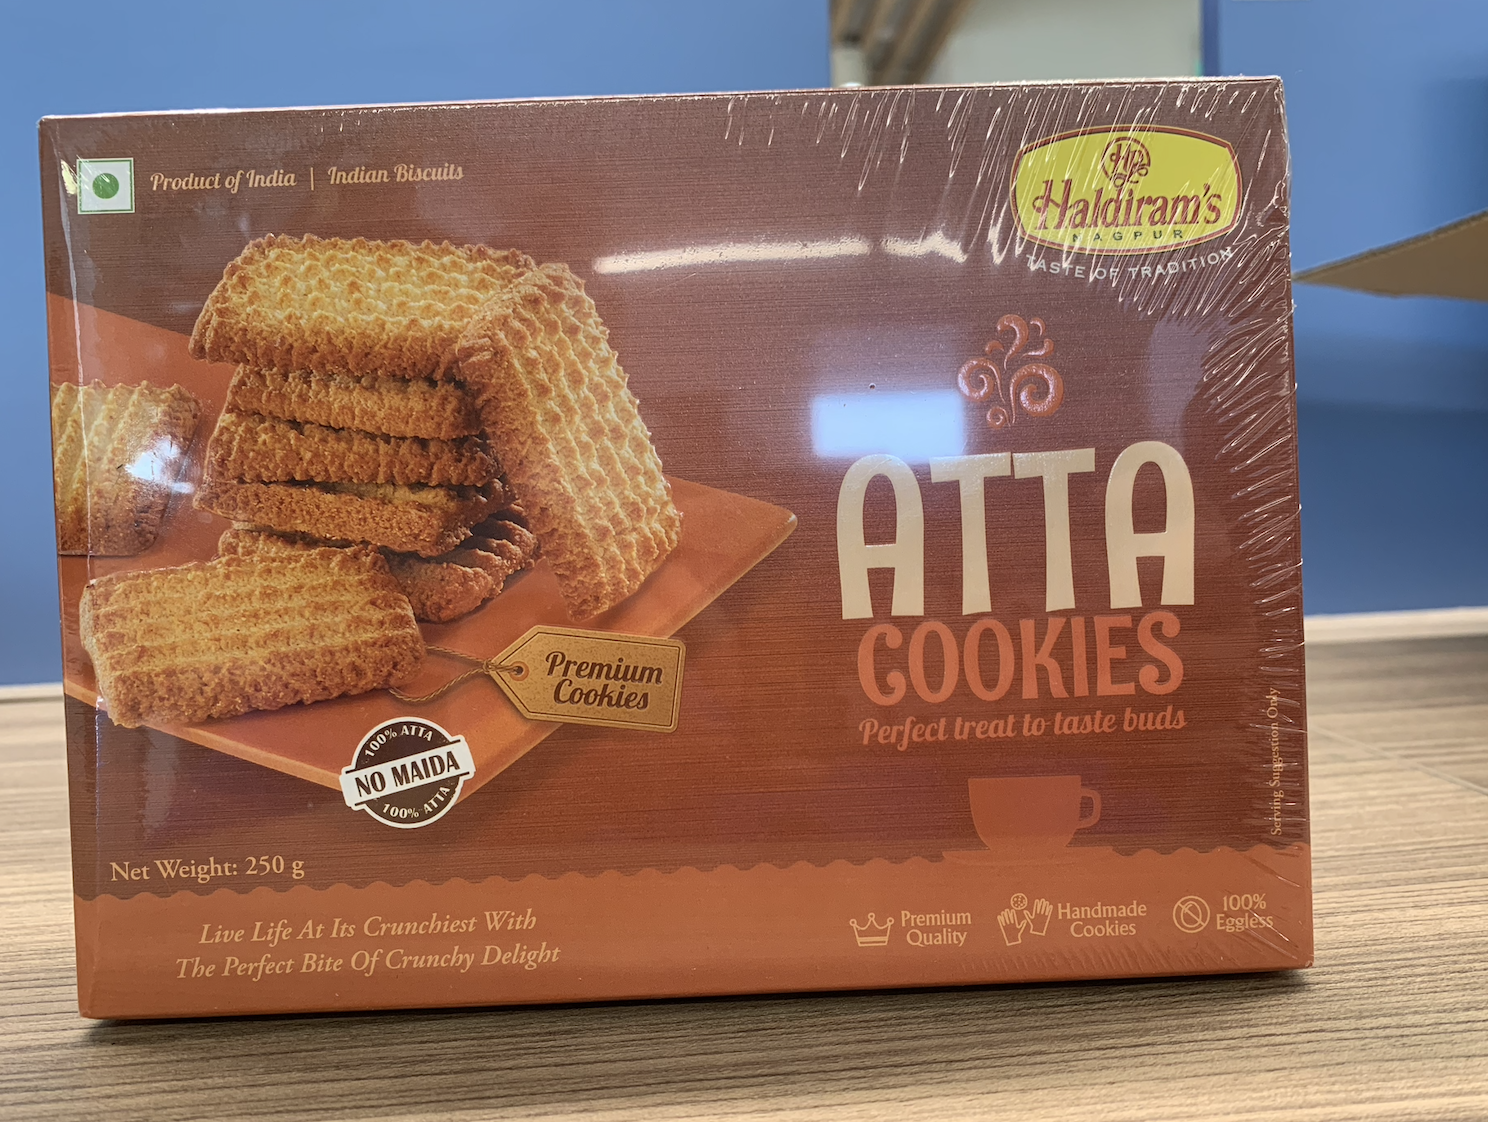cookies_200g-299g: (82, 126, 1287, 966)
